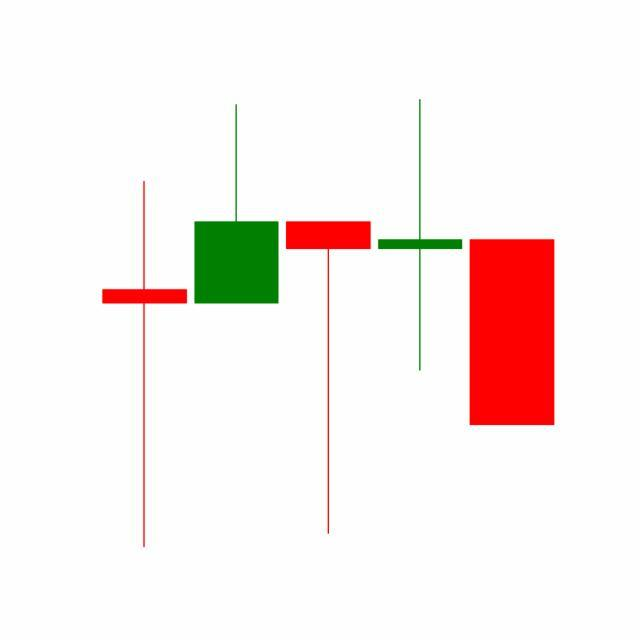Spinning Top: (374, 97, 468, 375)
